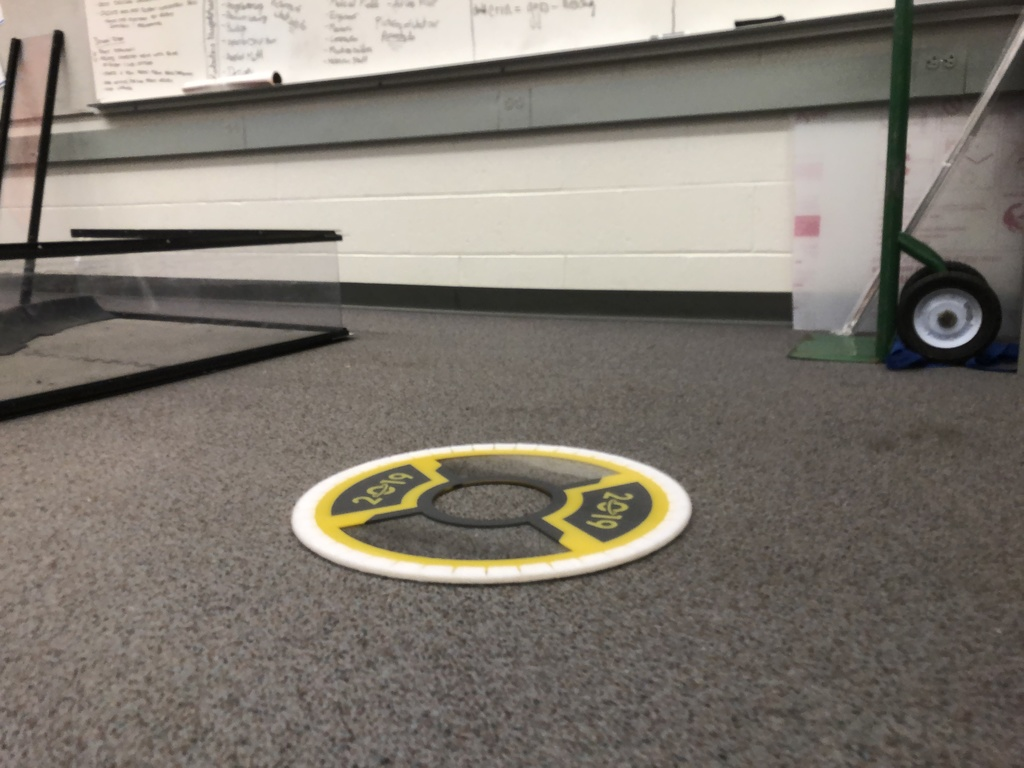hatch_panel: (281, 430, 715, 595)
